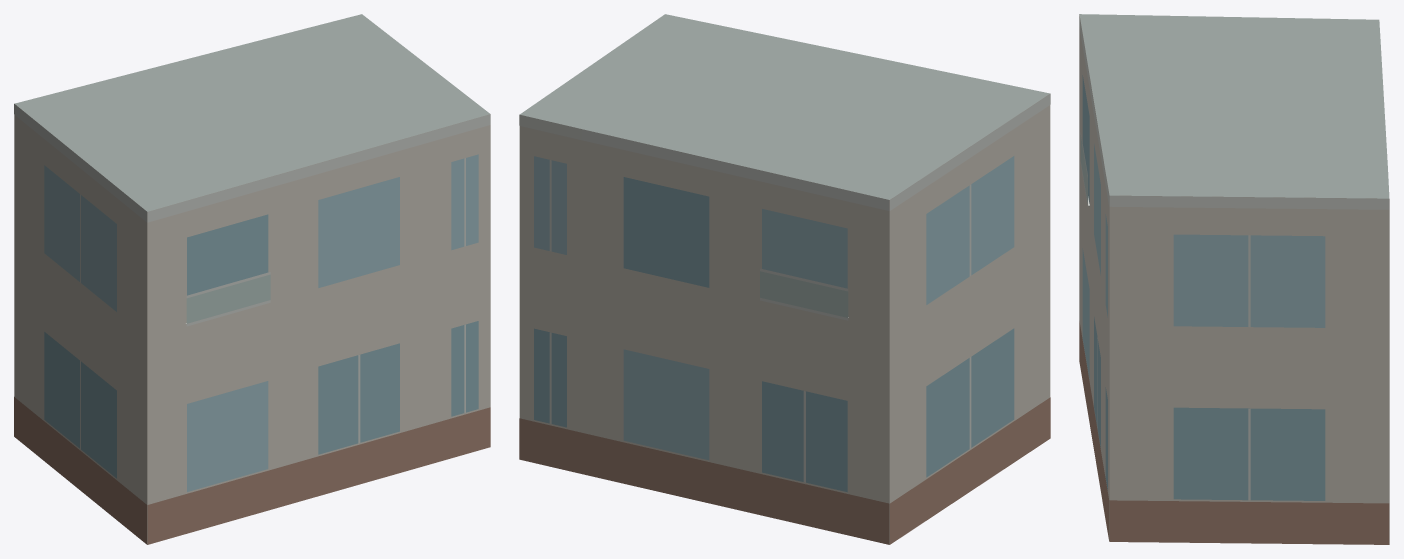
The model's file is survey-upis-32605973.glb.
3 views of the same model, side by side, from view 1: azimuth 30°, elevation 25°; view 2: azimuth 150°, elevation 25°; view 3: azimuth 270°, elevation 25° (orthographic). The views are drawn at different scales.
Visible parts, largest first — view 1: survey-upis-32605973.tmp; view 2: survey-upis-32605973.tmp; view 3: survey-upis-32605973.tmp.
Part boxes in pixels (x1=…): survey-upis-32605973.tmp: x1=14, y1=14, x2=490, y2=544; survey-upis-32605973.tmp: x1=519, y1=14, x2=1050, y2=544; survey-upis-32605973.tmp: x1=1079, y1=14, x2=1389, y2=544.
Bounding box in the file's own units: 8.58 × 7.5 × 6.1.
